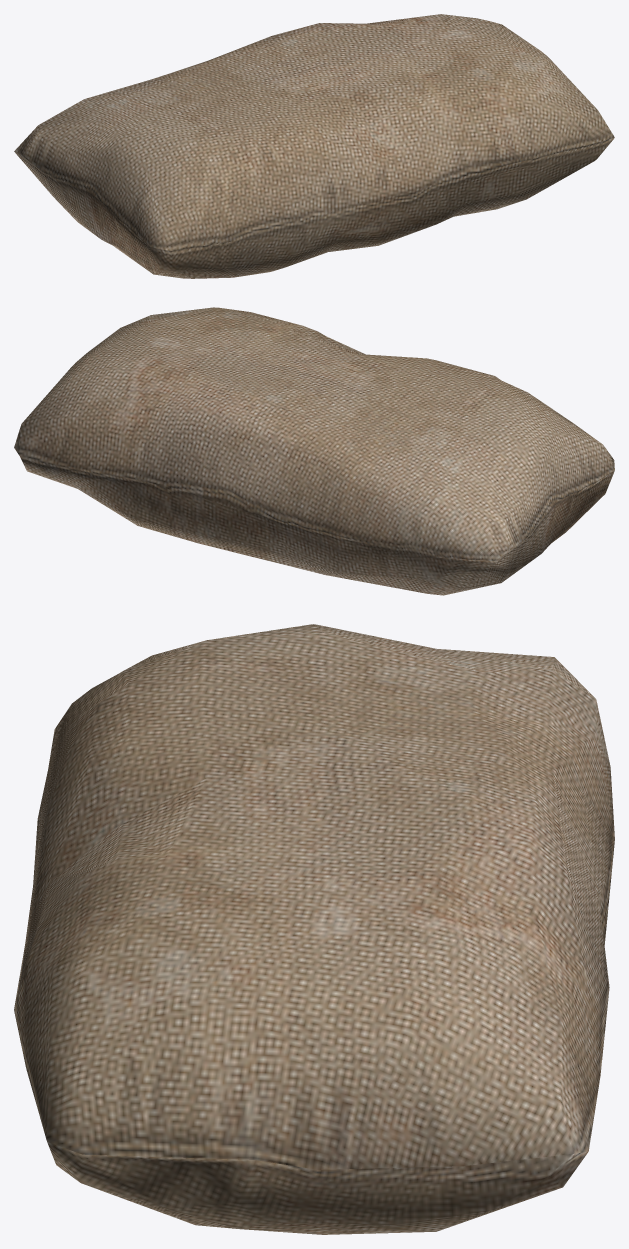
File: Sandbags_1B.fbx
The picture shows the model from 3 angles, top to bottom: view 1: azimuth 30°, elevation 25°; view 2: azimuth 150°, elevation 25°; view 3: azimuth 270°, elevation 25°; orthographic projection. The views are drawn at different scales.
Visible parts, largest first — view 1: Bag3_400tris_Group59701; view 2: Bag3_400tris_Group59701; view 3: Bag3_400tris_Group59701.
Part boxes in pixels (x1=…): Bag3_400tris_Group59701: x1=14, y1=14, x2=614, y2=278; Bag3_400tris_Group59701: x1=14, y1=307, x2=614, y2=595; Bag3_400tris_Group59701: x1=14, y1=624, x2=614, y2=1234.
Size of the model in its own units: 1.01 by 0.3089 by 0.5533.
